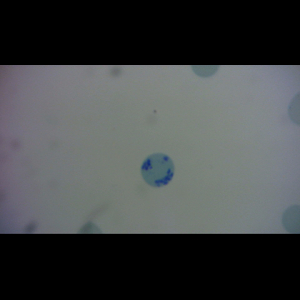aggregate reticulocyte: (139, 152, 176, 188)
